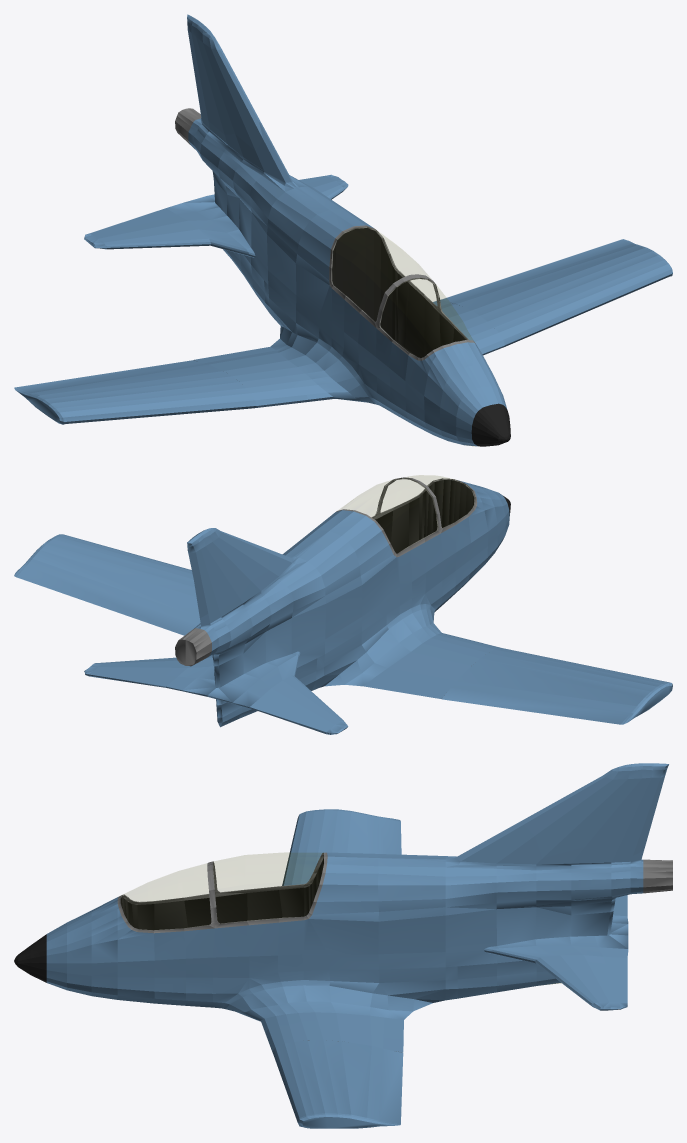
File: aircraft_14_damage.glb
3 renders of one model, top to bottom at view 1: azimuth 30°, elevation 25°; view 2: azimuth 150°, elevation 25°; view 3: azimuth 270°, elevation 25°, orthographic. The views are drawn at different scales.
Parts seen in each view (by area): view 1: fuselage, left wing, TailBreakaway, right wing, tail, broken vertical stabiliser section, broken right wing section, broken left wing section, broken horizontal stabiliser section; view 2: fuselage, TailBreakaway, right wing, left wing, tail, broken vertical stabiliser section, broken right wing section, broken horizontal stabiliser section; view 3: fuselage, TailBreakaway, left wing, broken vertical stabiliser section, right wing, tail, broken horizontal stabiliser section, broken left wing section.
Boxes of the visible parts, x1,y1,x2,y2 form: fuselage: (240, 194, 510, 446); left wing: (442, 239, 672, 347); TailBreakaway: (175, 19, 325, 331); right wing: (14, 360, 256, 424); tail: (105, 187, 343, 257); broken vertical stabiliser section: (187, 14, 263, 150); broken right wing section: (193, 352, 307, 407); broken left wing section: (433, 299, 504, 355); broken horizontal stabiliser section: (84, 174, 348, 249); fuselage: (289, 475, 510, 691); TailBreakaway: (175, 530, 338, 727); right wing: (441, 648, 672, 724); left wing: (14, 534, 200, 635); tail: (165, 651, 342, 723); broken vertical stabiliser section: (187, 528, 269, 618); broken right wing section: (394, 637, 502, 698); broken horizontal stabiliser section: (84, 657, 348, 734); fuselage: (14, 852, 423, 1039); TailBreakaway: (423, 763, 672, 1006); left wing: (272, 1040, 403, 1128); broken vertical stabiliser section: (523, 763, 668, 858); right wing: (282, 809, 401, 885); tail: (484, 896, 628, 1004); broken horizontal stabiliser section: (556, 895, 627, 1010); broken left wing section: (265, 1020, 403, 1052).
Size of the model in its own units: 7.51 by 2.73 by 6.81.
